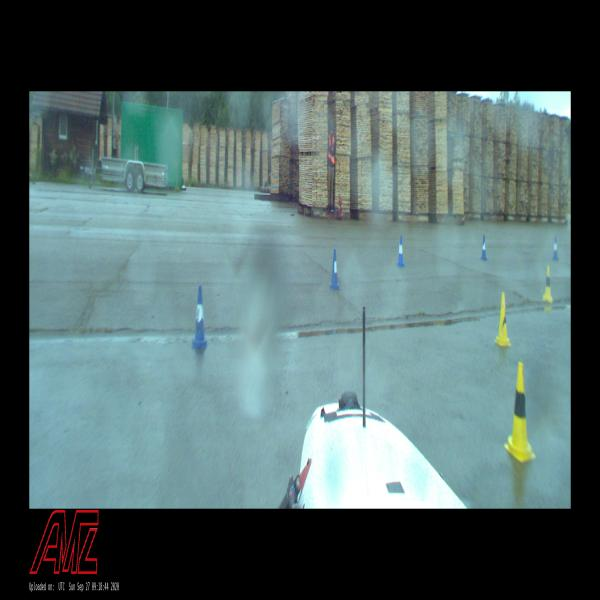blue_cone: (194, 288, 207, 348), (330, 250, 340, 290), (397, 237, 405, 266), (481, 236, 487, 260), (553, 238, 558, 259)
yellow_cone: (505, 363, 535, 461), (494, 294, 510, 346), (543, 268, 552, 302)
